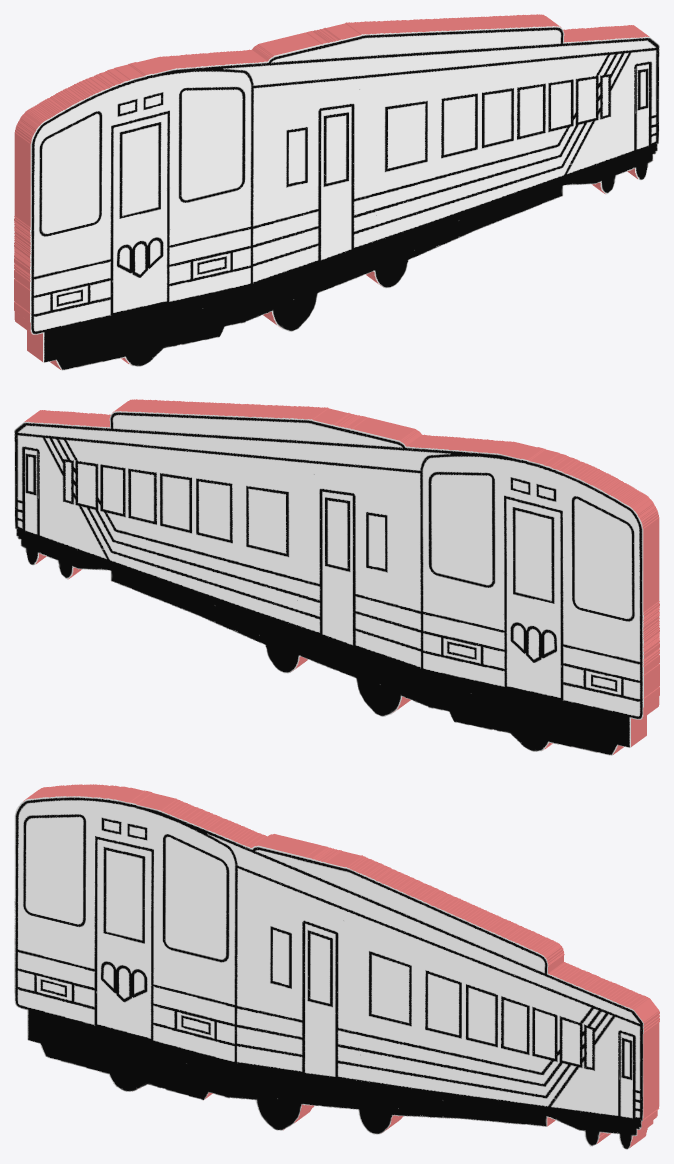
Rendered from nurie_vertical_scale.glb.
3 views of the same model, one above another, from view 1: azimuth 30°, elevation 25°; view 2: azimuth 150°, elevation 25°; view 3: azimuth 330°, elevation 25° (orthographic).
Bounding box in the file's own units: 2.27 × 1 × 0.1.
3 materials, 2 textured.
